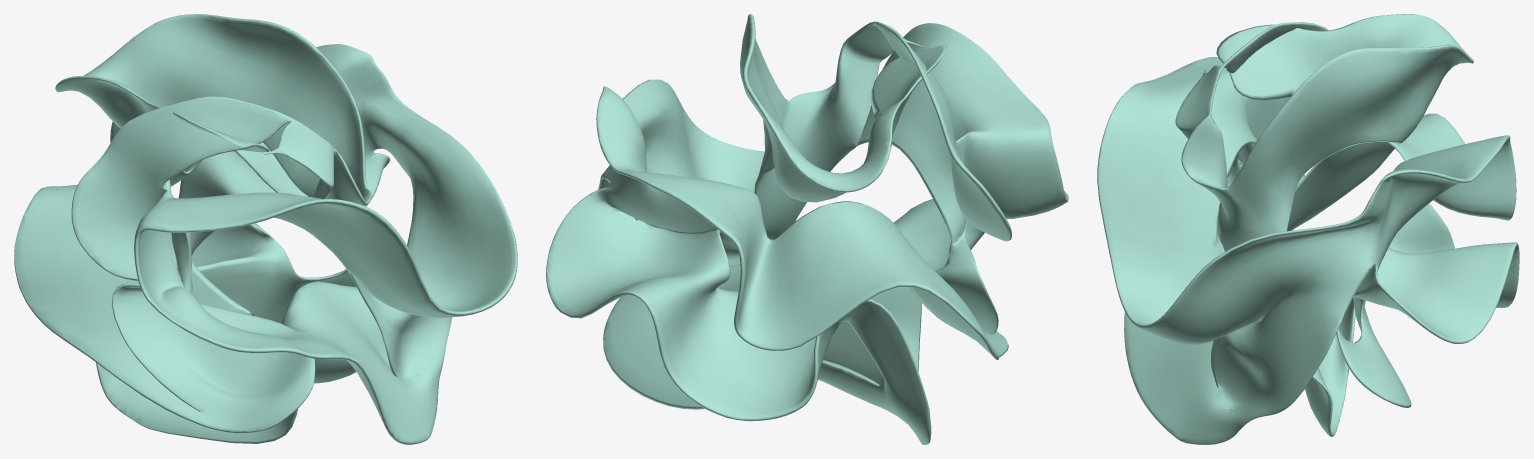
The model's file is pod_03.glb.
3 renders of one model, left to right at view 1: azimuth 30°, elevation 25°; view 2: azimuth 150°, elevation 25°; view 3: azimuth 270°, elevation 25°, orthographic. The views are drawn at different scales.
Visible parts, largest first — view 1: shangan_Tripo_Sculpture; view 2: shangan_Tripo_Sculpture; view 3: shangan_Tripo_Sculpture.
Boxes of the visible parts, x1,y1,x2,y2 form: shangan_Tripo_Sculpture: [14, 14, 517, 444]; shangan_Tripo_Sculpture: [546, 14, 1068, 444]; shangan_Tripo_Sculpture: [1097, 14, 1519, 444].
Size of the model in its own units: 1.81 by 1.62 by 1.74.
1 material, 1 textured.
